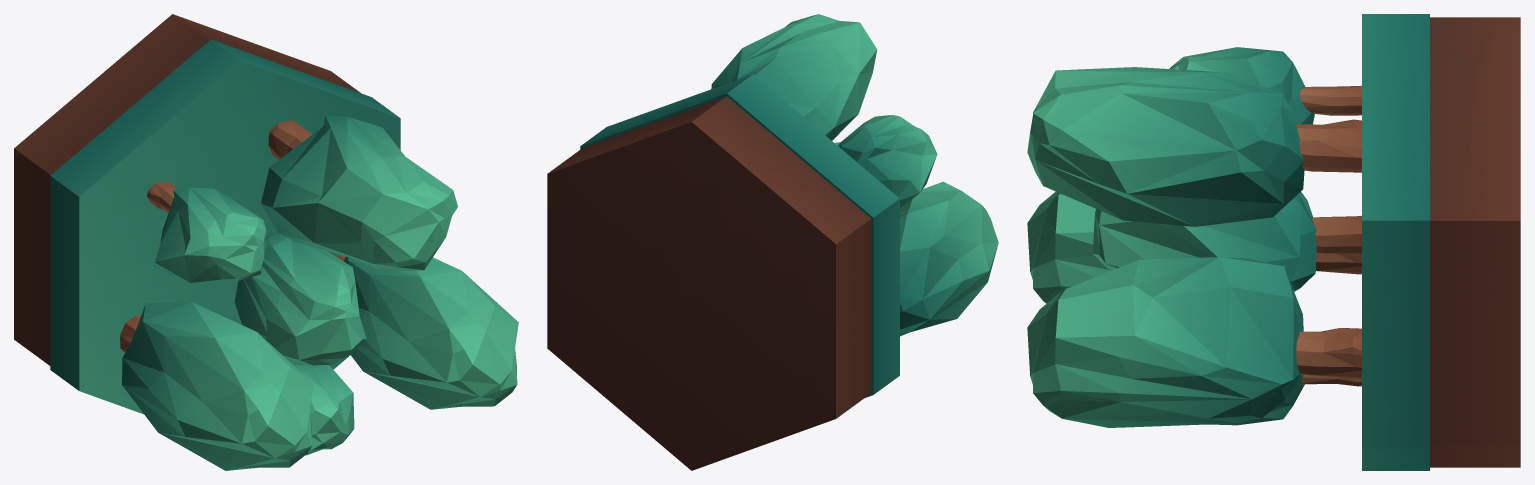
The model's file is LAUBWALD_B.fbx.
3 views of the same model, side by side, from view 1: azimuth 30°, elevation 25°; view 2: azimuth 150°, elevation 25°; view 3: azimuth 270°, elevation 25° (orthographic). The views are drawn at different scales.
Visible parts, largest first — view 1: LAUBWALD_B; view 2: LAUBWALD_B; view 3: LAUBWALD_B.
Boxes of the visible parts, bbox=[...] form: LAUBWALD_B: bbox=[14, 14, 518, 470]; LAUBWALD_B: bbox=[547, 14, 998, 470]; LAUBWALD_B: bbox=[1027, 14, 1520, 470].
Bounding box in the file's own units: 172 × 199 × 194.
